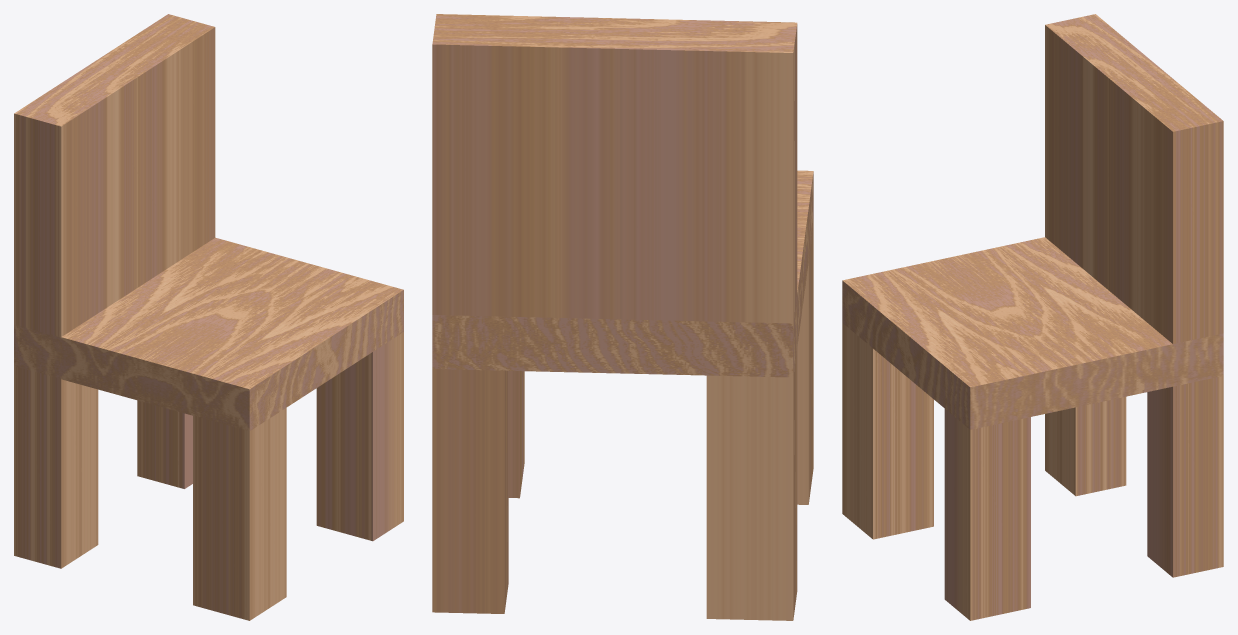
Rendered from chair.gltf.
3 renders of one model, left to right at view 1: azimuth 30°, elevation 25°; view 2: azimuth 150°, elevation 25°; view 3: azimuth 270°, elevation 25°, orthographic. The views are drawn at different scales.
Visible parts, largest first — view 1: Cube.001; view 2: Cube.001; view 3: Cube.001.
Part boxes in pixels (x1,y1,x2,y2): Cube.001: (14,14,403,620); Cube.001: (432,14,813,620); Cube.001: (842,14,1223,620).
Bounding box in the file's own units: 5.64 × 7.28 × 5.64.
Materials: 1 (1 with a texture image).
